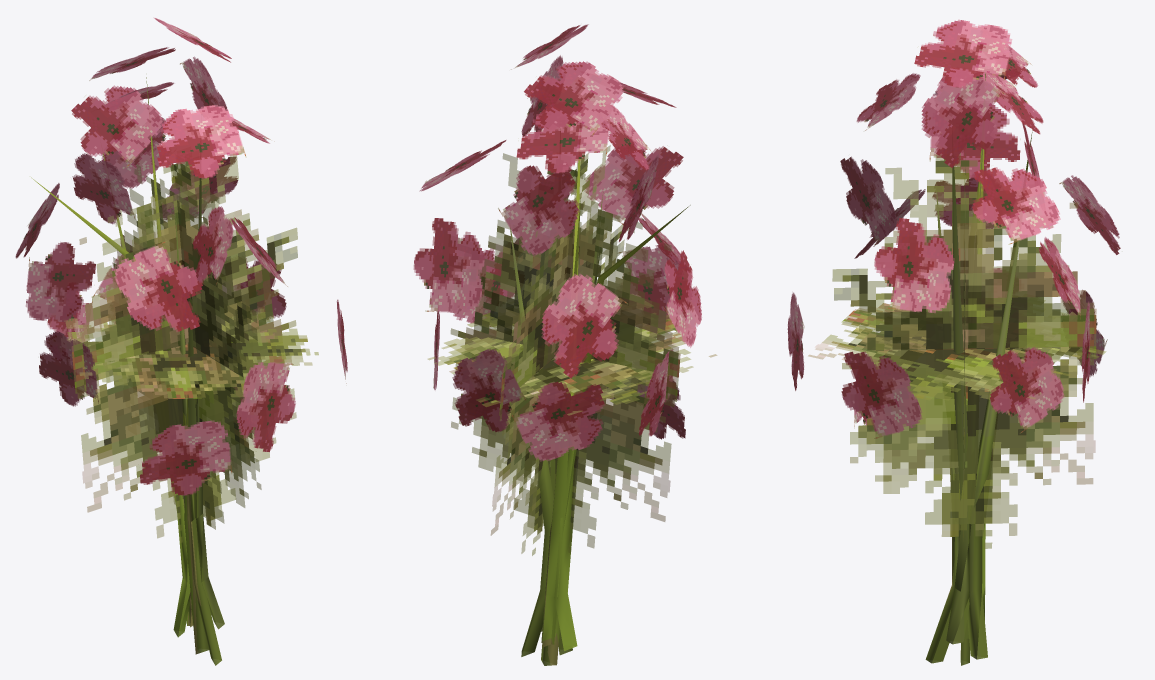
File: ramo.glb
The picture shows the model from 3 angles, left to right: view 1: azimuth 30°, elevation 25°; view 2: azimuth 150°, elevation 25°; view 3: azimuth 270°, elevation 25°; orthographic projection. The views are drawn at different scales.
Parts seen in each view (by area): view 1: petals, flowera; view 2: petals, flowera; view 3: petals, flowera.
Part boxes in pixels (box(x1,y1,x2,y2)): petals: box(15, 17, 347, 542); flowera: box(31, 77, 224, 665); petals: box(413, 24, 717, 555); flowera: box(510, 160, 690, 665); petals: box(787, 19, 1120, 548); flowera: box(925, 73, 1032, 665).
Size of the model in its own units: 0.377 by 0.7396 by 0.3786.
1 material, 1 textured.
